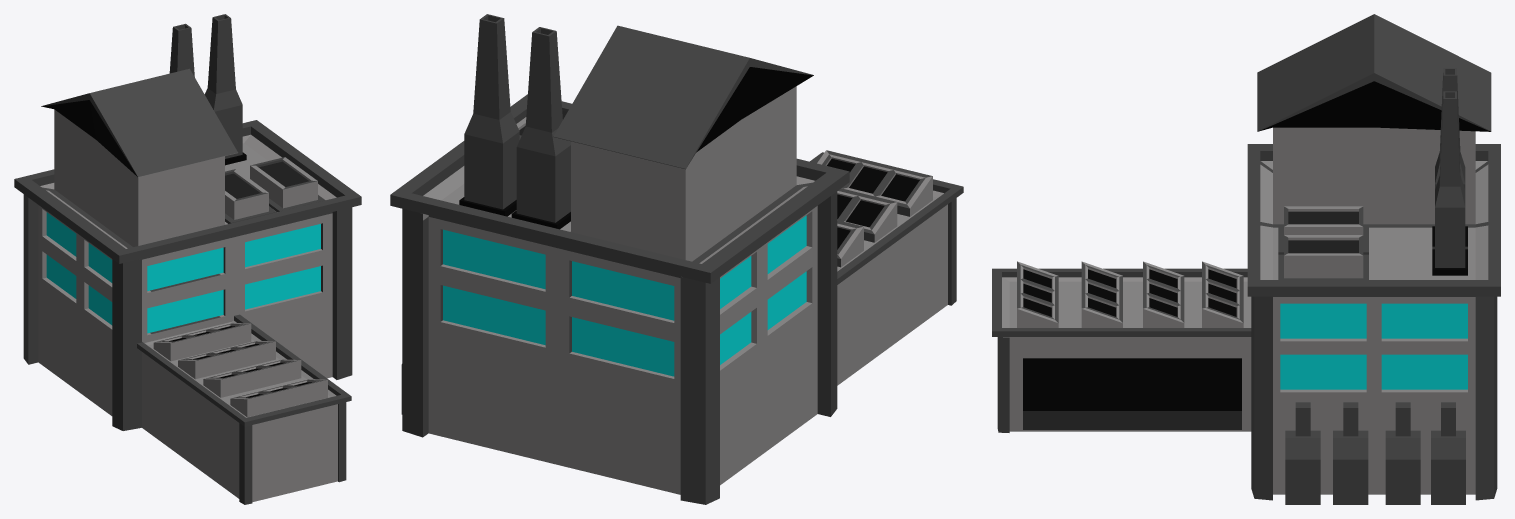
File: Factory.fbx
The picture shows the model from 3 angles, left to right: view 1: azimuth 30°, elevation 25°; view 2: azimuth 150°, elevation 25°; view 3: azimuth 270°, elevation 25°; orthographic projection. The views are drawn at different scales.
Visible parts, largest first — view 1: Cube; view 2: Cube; view 3: Cube.
Part boxes in pixels (x1,y1,x2,y2): Cube: (14,14,361,504); Cube: (390,14,963,504); Cube: (992,14,1500,504).
Size of the model in its own units: 922 by 1101 by 1356.
